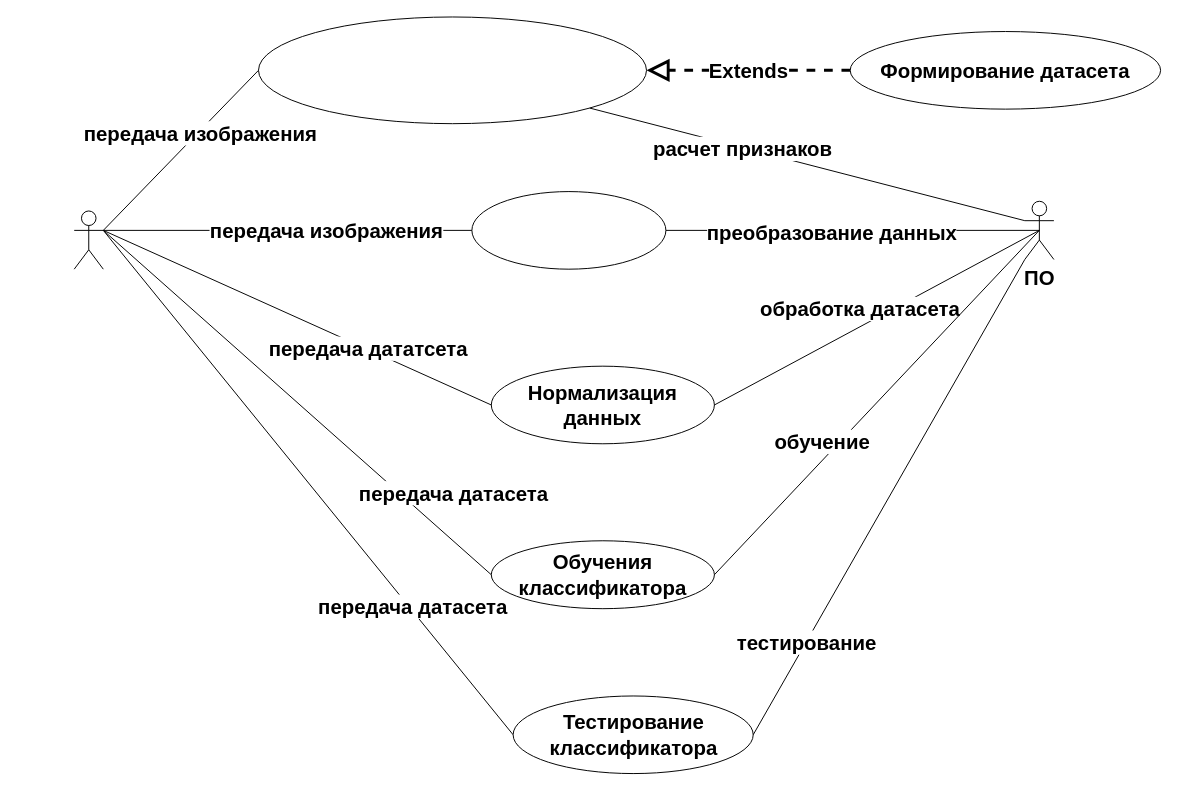
This 1178x791 diagram has some shape labels left out. Each missing label, with the centre of its shape:
Аугментация данных: the point at 568,230
Вычисление морфологических признаков: the point at 452,70
Пользователь: the point at 88,239
